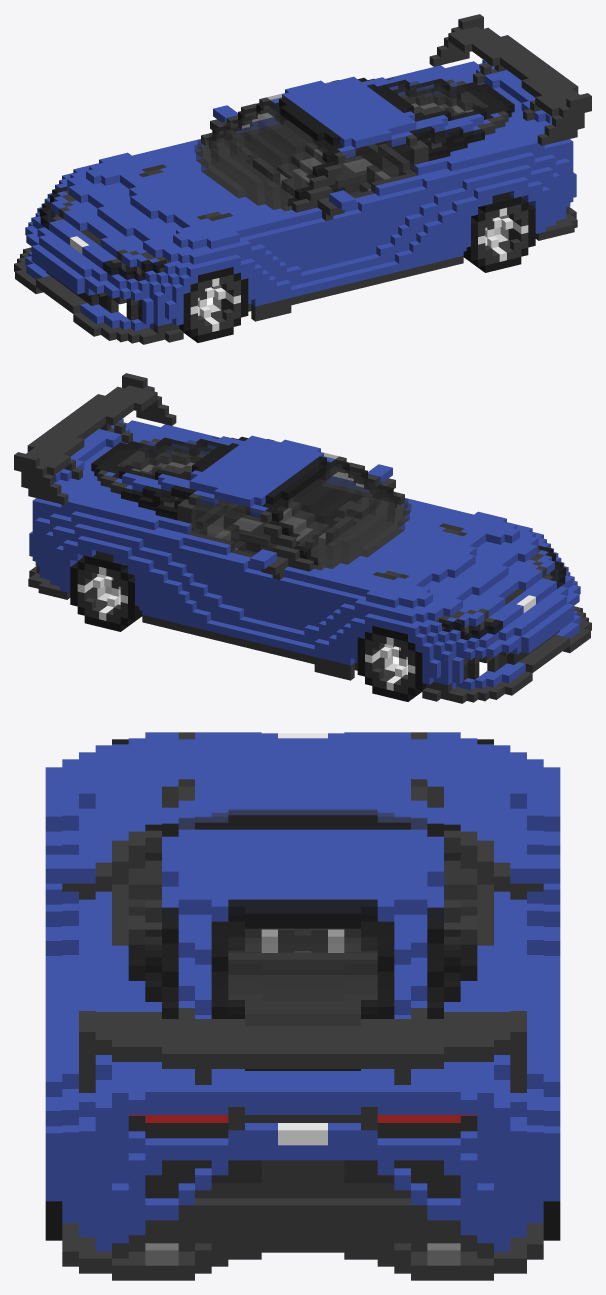
File: CorvetteC6Mod.glb
The picture shows the model from 3 angles, top to bottom: view 1: azimuth 30°, elevation 25°; view 2: azimuth 150°, elevation 25°; view 3: azimuth 270°, elevation 25°; orthographic projection. The views are drawn at different scales.
Visible parts, largest first — view 1: Object_4, Object_5, Object_6, Object_3, Object_12, Object_13, Object_9, Object_7, Object_8; view 2: Object_4, Object_5, Object_6, Object_3, Object_12, Object_13, Object_9, Object_7, Object_8; view 3: Object_4, Object_5, Object_6, Object_3, Object_7, Object_13, Object_9, Object_12, Object_11.
Boxes of the visible parts, x1,y1,x2,y2 form: Object_4: (25,59,576,331); Object_5: (14,14,591,344); Object_6: (195,81,487,210); Object_3: (39,77,514,281); Object_12: (179,192,535,342); Object_13: (70,207,528,331); Object_9: (280,103,473,190); Object_7: (46,164,232,321); Object_8: (198,215,508,315); Object_4: (29,418,580,690); Object_5: (14,373,591,703); Object_6: (118,440,410,569); Object_3: (91,436,566,640); Object_12: (70,551,426,701); Object_13: (77,566,535,690); Object_9: (132,462,325,549); Object_7: (373,523,559,680); Object_8: (97,574,407,674); Object_4: (45,732,560,1251); Object_5: (62,732,543,1280); Object_6: (112,809,493,1025); Object_3: (112,739,493,1070); Object_7: (128,779,477,1198); Object_13: (261,733,344,1145); Object_9: (145,928,460,1265); Object_12: (45,1201,560,1240); Object_11: (128,1115,477,1122).
Bounding box in the file's own units: 68 × 19 × 31.
